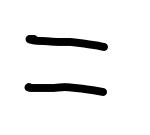eqv: (25, 35, 108, 96)
